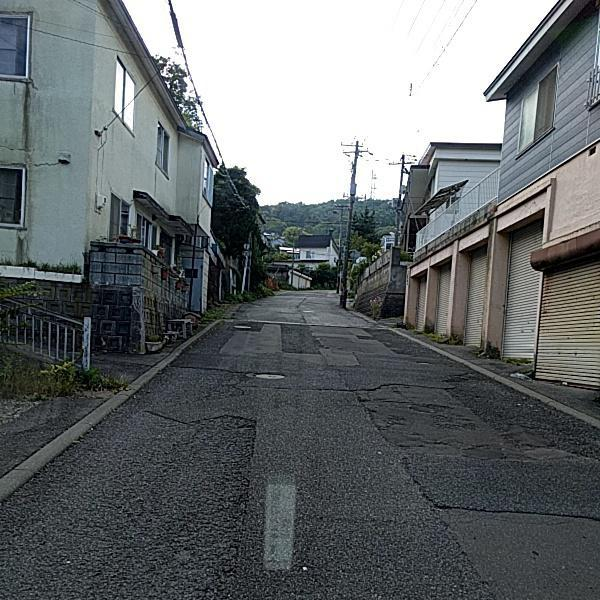D40: (367, 390, 478, 447)
D50: (251, 366, 284, 382)
